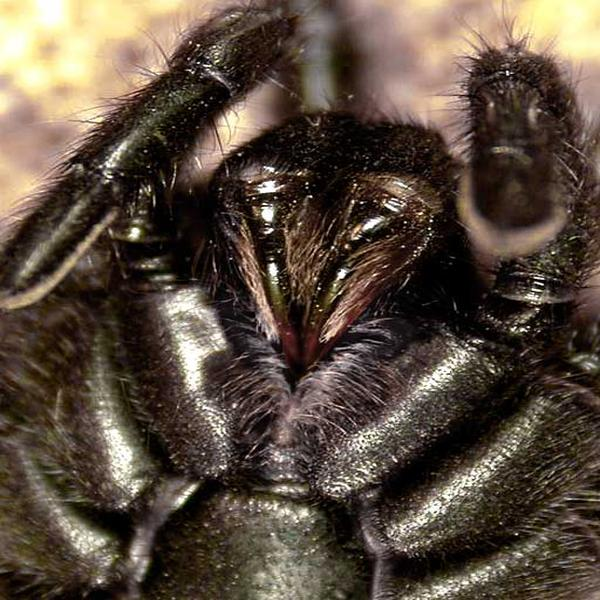Sydney_Funnel_Web_Spider: (1, 1, 599, 599)
